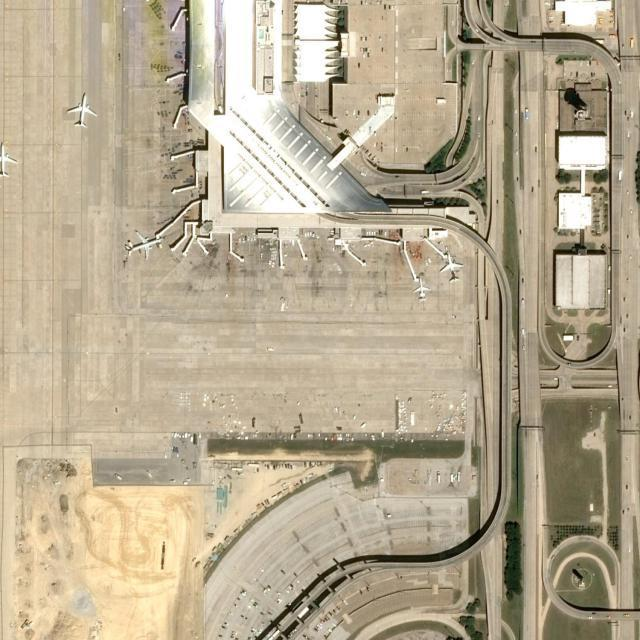Aircraft: (123, 231, 163, 260), (68, 92, 97, 129), (0, 138, 17, 180), (441, 253, 462, 284), (412, 274, 428, 298)
